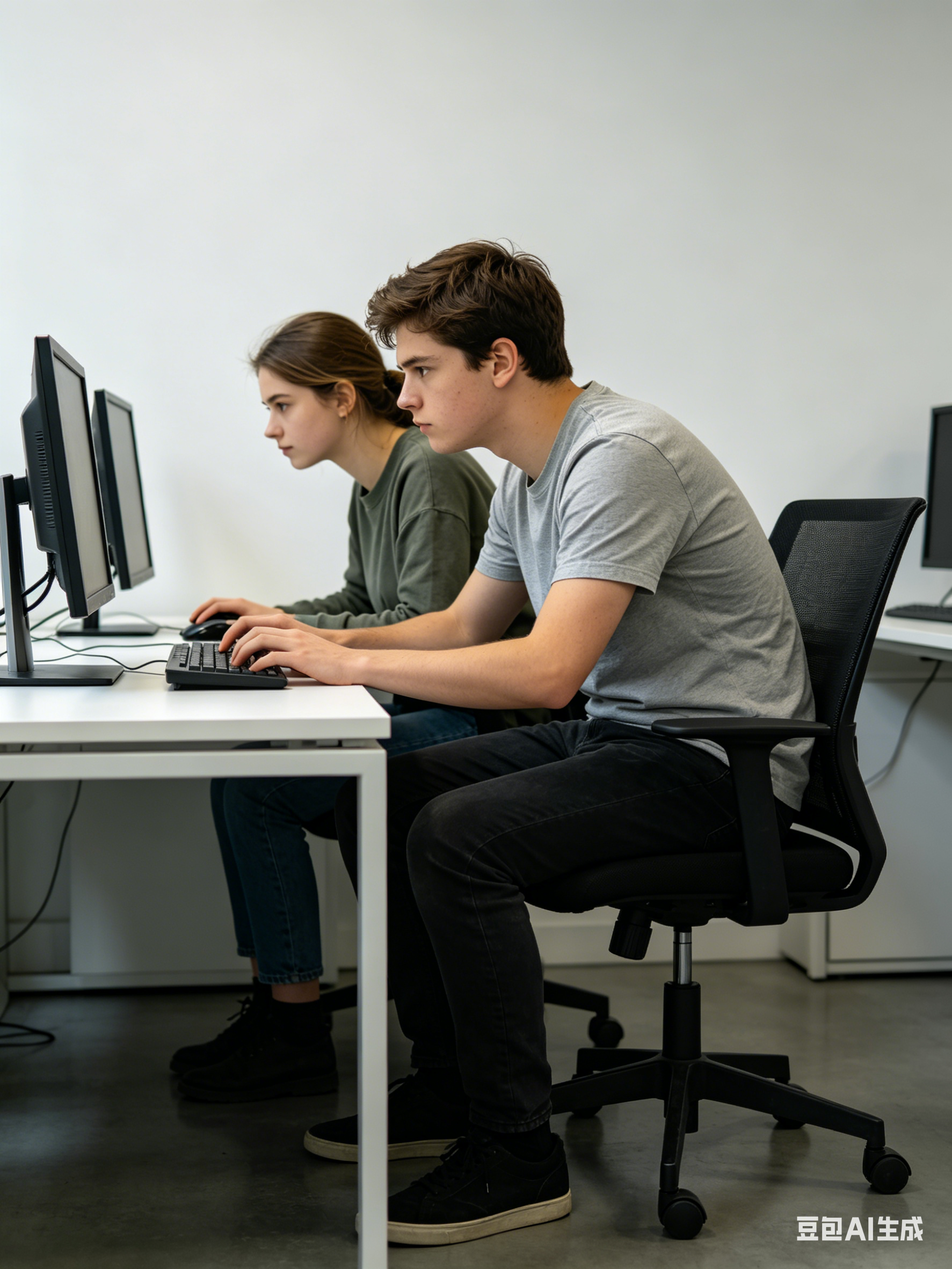sitting_bad: (365, 242, 820, 740), (196, 313, 491, 726)
